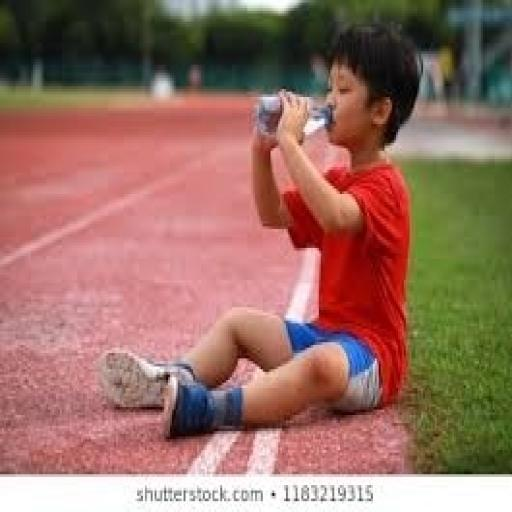drinking: (253, 92, 334, 142)
